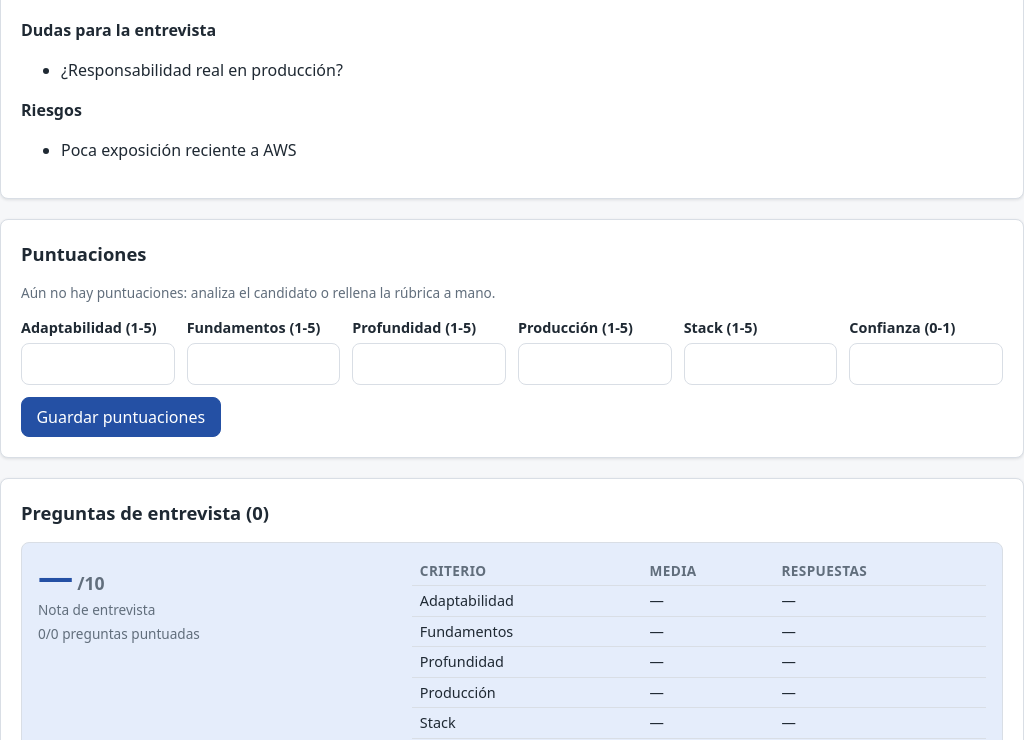
Scenario: CandidateDetailPage › valida 1-5 en el formulario de score antes de enviar
This screenshot has width=1024, height=740.
(page scrolled)
Type "7" into the number field labelled "Adaptabilidad (1-5)".
click(98, 364); type("7")  # box left=21, top=343, right=175, bottom=385
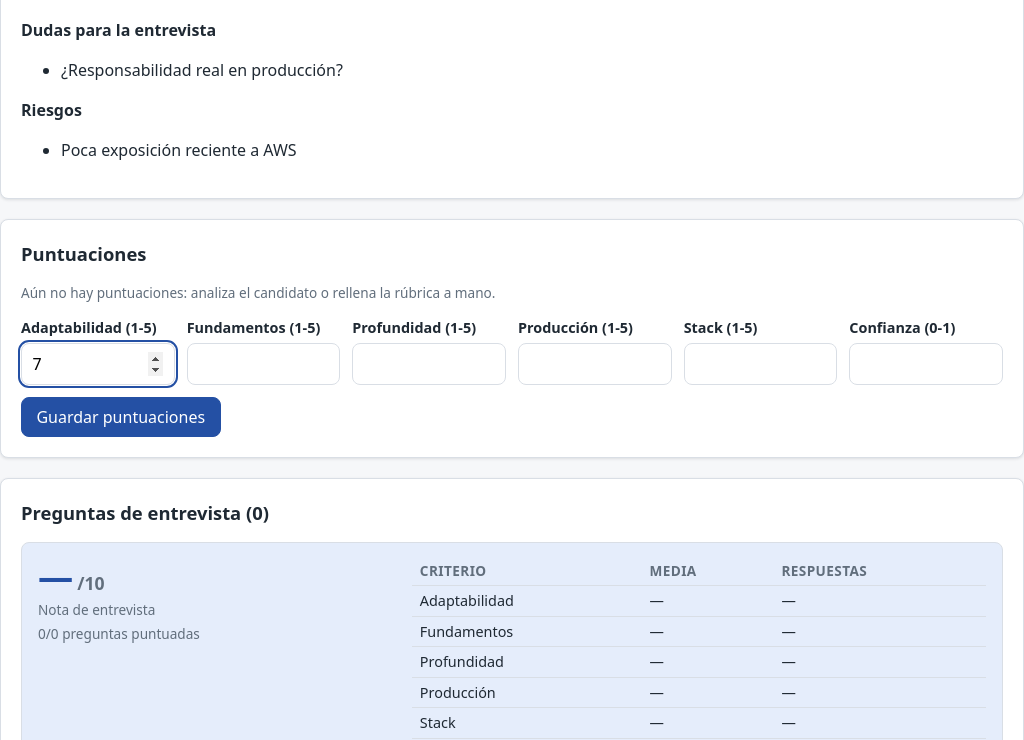
Click the button "Guardar puntuaciones".
click(121, 417)  # box left=21, top=397, right=220, bottom=437
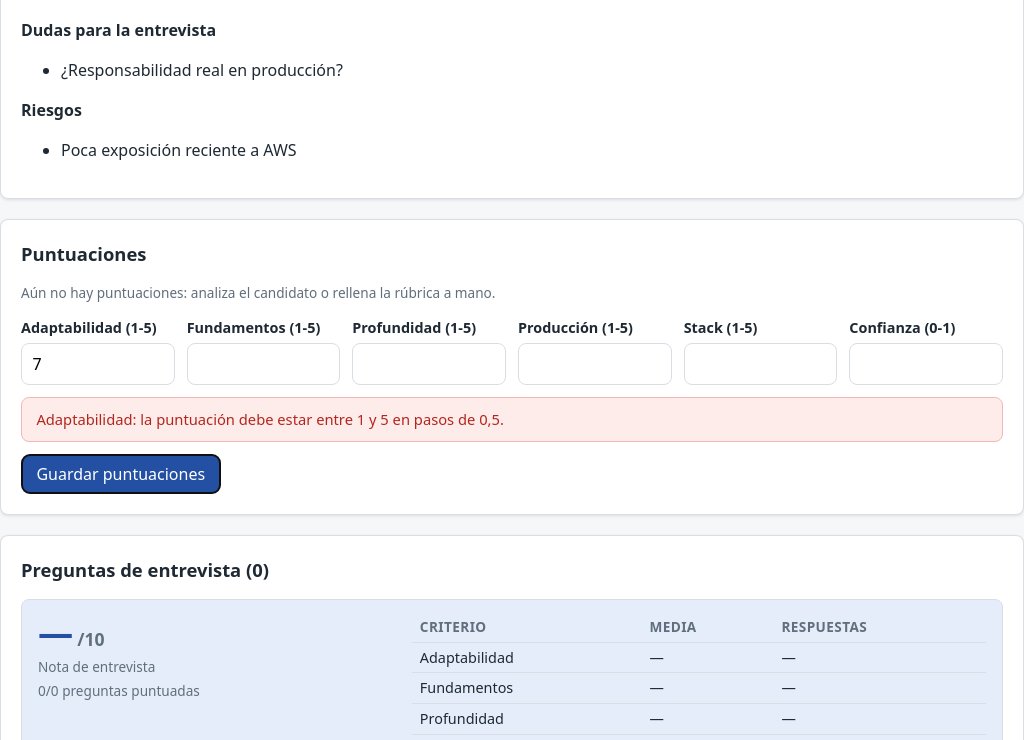
Check: the text "Adaptabilidad: la puntuación debe estar entre 1 y 5 en pasos de 0,5." is shown, box left=21, top=397, right=1003, bottom=442
